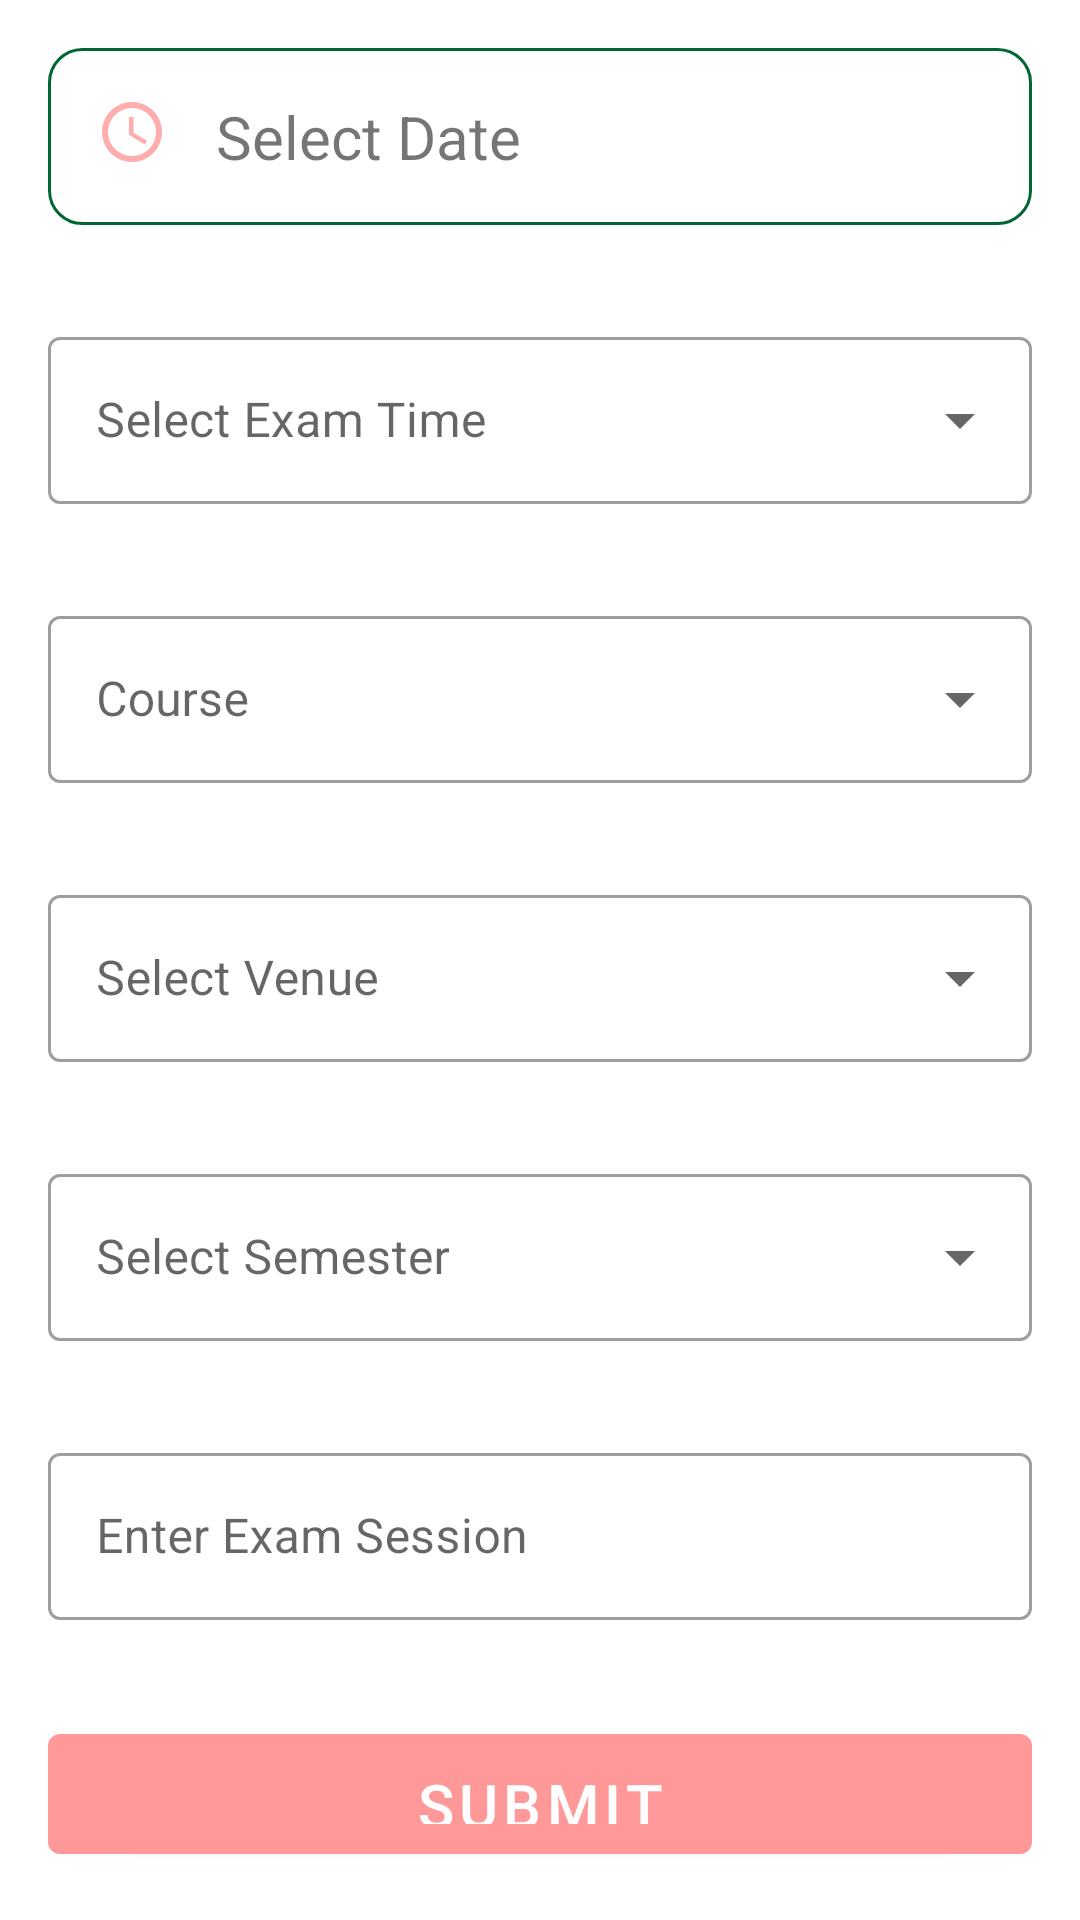

Named icons in this screenshot (1080w x 1920h) and their centers, point (x, y):
timeicon: point (132, 132)
